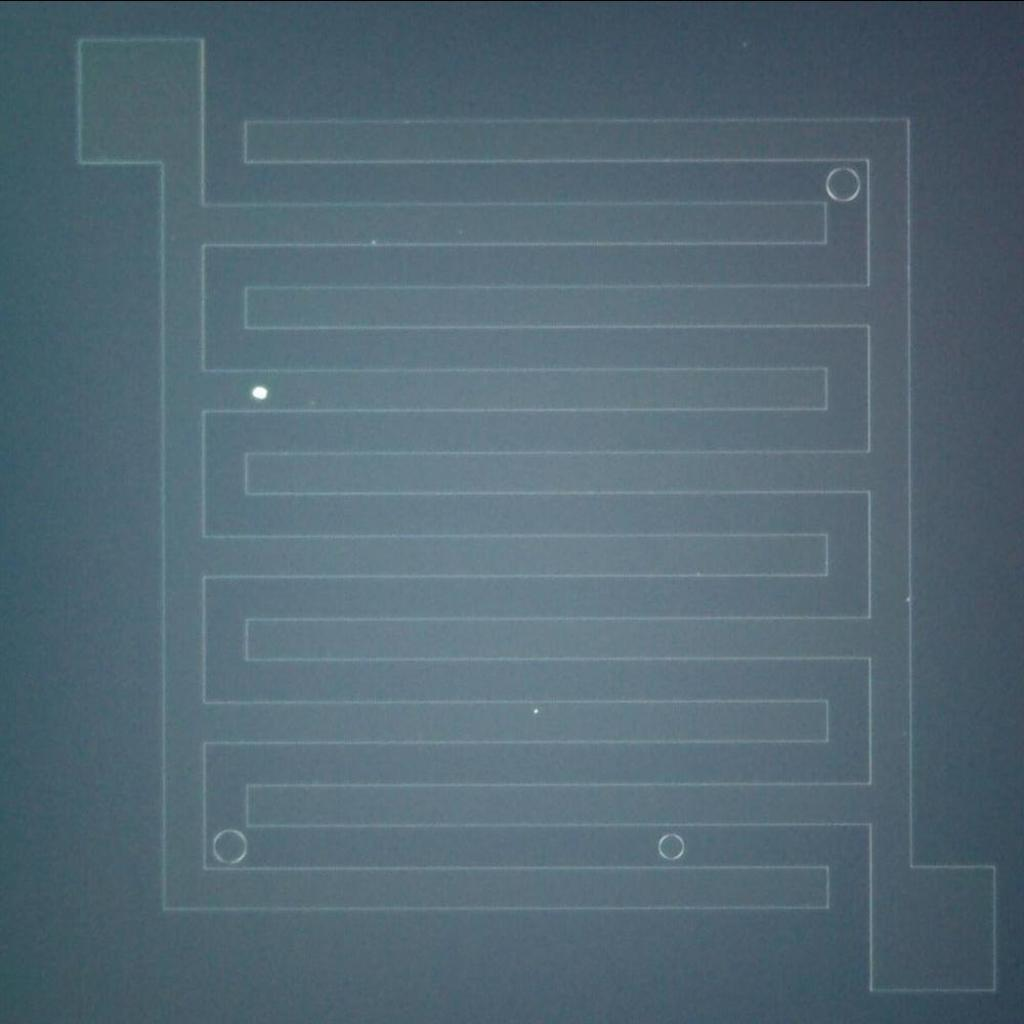circle: (822, 162, 864, 204), (210, 826, 252, 866), (654, 828, 687, 864)
dot: (520, 697, 549, 725)
spot: (244, 375, 275, 406)
